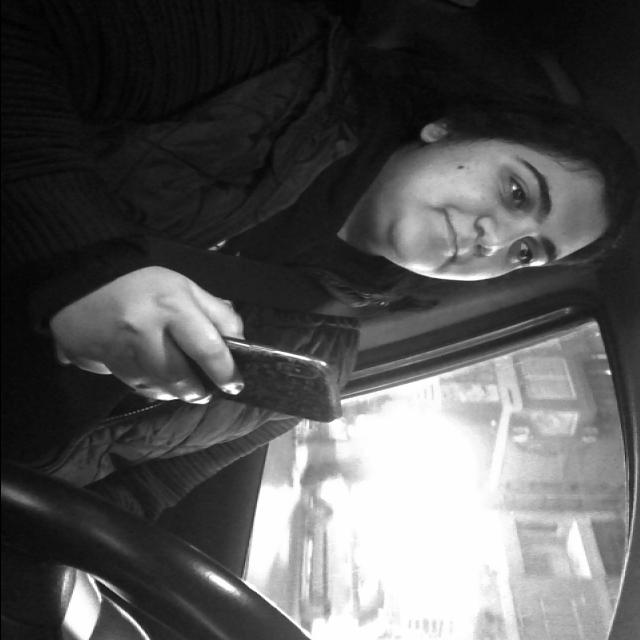mobile use: (170, 334, 344, 432)
